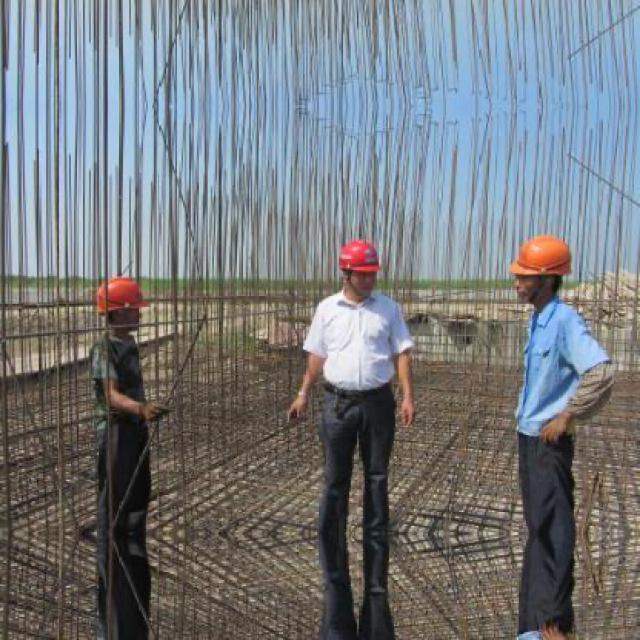con casco: (490, 222, 597, 309), (86, 249, 160, 355), (323, 215, 398, 305)
